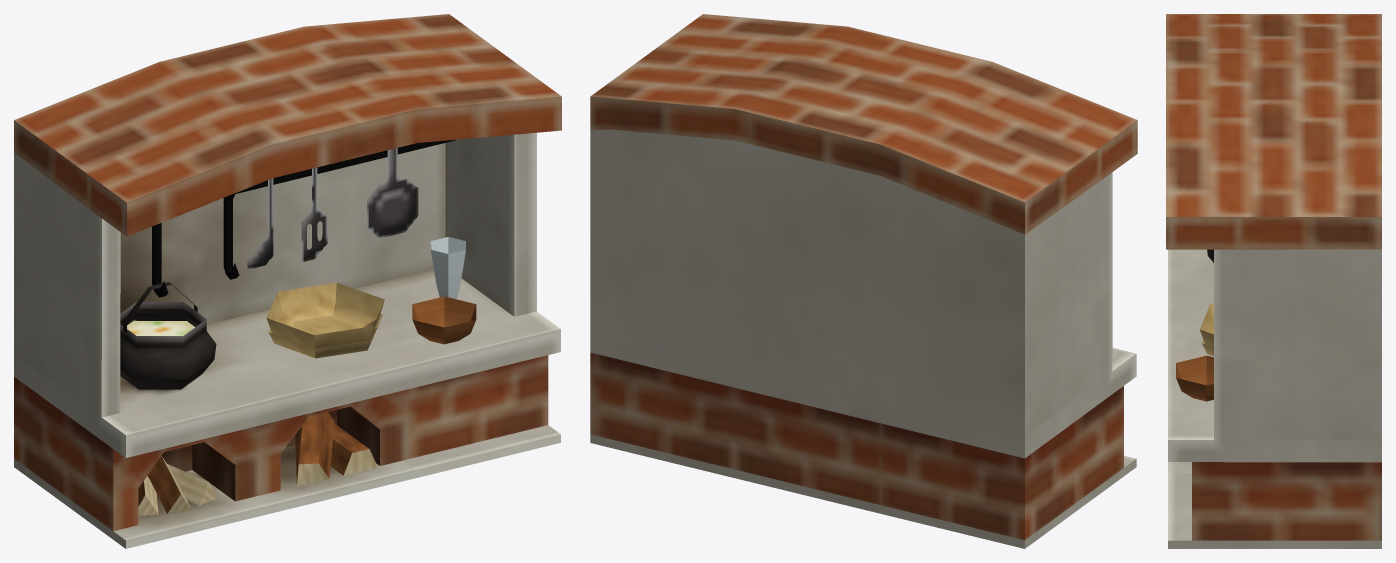
The model's file is Kitchen B.fbx.
3 views of the same model, side by side, from view 1: azimuth 30°, elevation 25°; view 2: azimuth 150°, elevation 25°; view 3: azimuth 270°, elevation 25° (orthographic). The views are drawn at different scales.
Visible parts, largest first — view 1: KitchenB; view 2: KitchenB; view 3: KitchenB.
Part boxes in pixels (x1=…): KitchenB: x1=14, y1=14, x2=561, y2=548; KitchenB: x1=590, y1=14, x2=1137, y2=548; KitchenB: x1=1166, y1=14, x2=1381, y2=548.
Bounding box in the file's own units: 2 × 1.62 × 0.8984.
